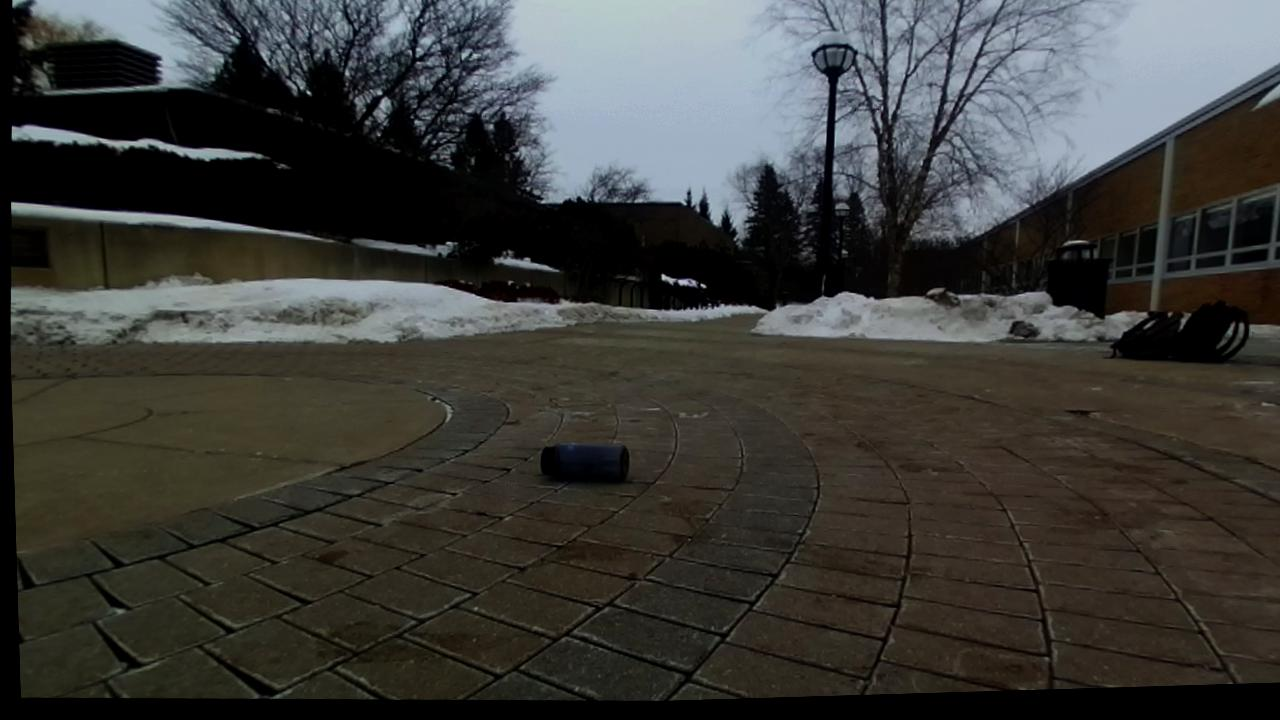bottle: (541, 444, 629, 482)
